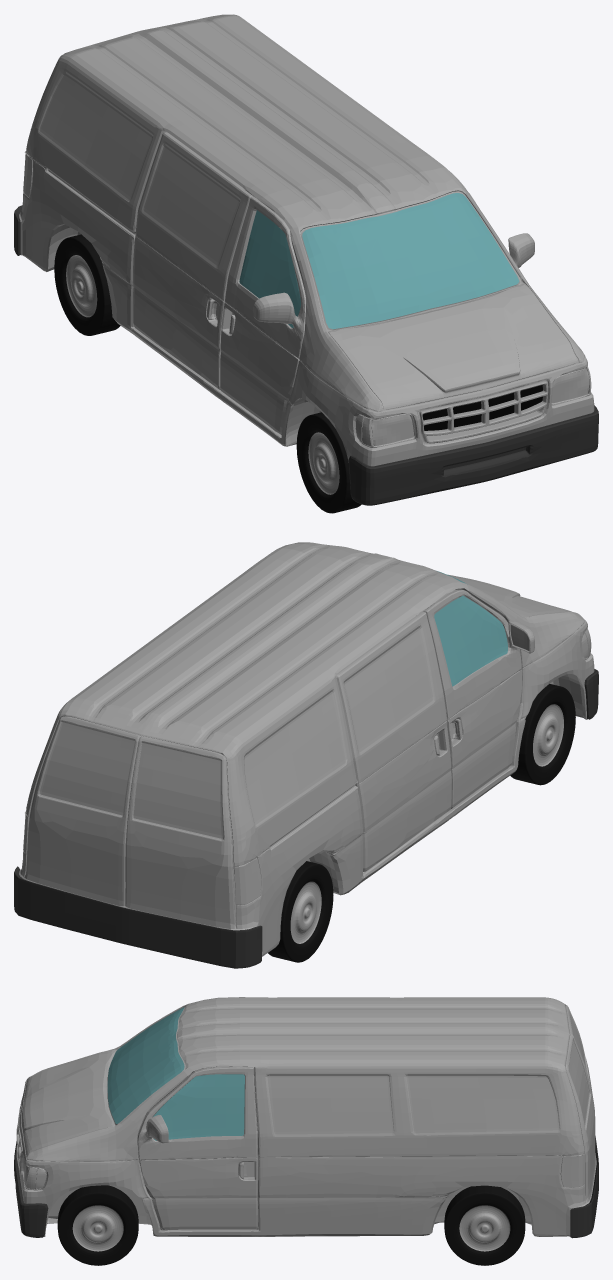
The model's file is camioneta_High.obj.
The picture shows the model from 3 angles, top to bottom: view 1: azimuth 30°, elevation 25°; view 2: azimuth 150°, elevation 25°; view 3: azimuth 270°, elevation 25°; orthographic projection. The views are drawn at different scales.
Parts seen in each view (by area): view 1: Camioneta.001_Circle.000, Camioneta.008_Circle.012, Camioneta.012_Circle.016, Camioneta.011_Circle.015, Camioneta.013_Circle.017, Camioneta.004_Circle.004, Camioneta.000_Circle.008, Camioneta.007_Circle.019, Camioneta.002_Circle.007, Camioneta.014_Circle.018; view 2: Camioneta.001_Circle.000, Camioneta.012_Circle.016, Camioneta.008_Circle.012, Camioneta.004_Circle.004, Camioneta.013_Circle.017, Camioneta.014_Circle.018, Camioneta.002_Circle.007, Camioneta.009_Circle.013; view 3: Camioneta.001_Circle.000, Camioneta.008_Circle.012, Camioneta.016_Circle.003, Camioneta.010_Circle.001, Camioneta.012_Circle.016, Camioneta.015_Circle.002, Camioneta.017_Circle.005, Camioneta.009_Circle.013.
Part boxes in pixels (x1=…): Camioneta.001_Circle.000: x1=19, y1=14, x2=594, y2=466; Camioneta.008_Circle.012: x1=239, y1=193, x2=519, y2=329; Camioneta.012_Circle.016: x1=14, y1=205, x2=598, y2=505; Camioneta.011_Circle.015: x1=419, y1=381, x2=547, y2=443; Camioneta.013_Circle.017: x1=54, y1=234, x2=120, y2=335; Camioneta.004_Circle.004: x1=296, y1=412, x2=361, y2=513; Camioneta.000_Circle.008: x1=371, y1=368, x2=589, y2=445; Camioneta.007_Circle.019: x1=422, y1=385, x2=542, y2=430; Camioneta.002_Circle.007: x1=308, y1=432, x2=339, y2=494; Camioneta.014_Circle.018: x1=66, y1=255, x2=97, y2=317; Camioneta.001_Circle.000: x1=19, y1=542, x2=594, y2=956; Camioneta.012_Circle.016: x1=14, y1=669, x2=598, y2=968; Camioneta.008_Circle.012: x1=434, y1=571, x2=507, y2=686; Camioneta.004_Circle.004: x1=510, y1=684, x2=575, y2=785; Camioneta.013_Circle.017: x1=268, y1=861, x2=333, y2=962; Camioneta.014_Circle.018: x1=290, y1=881, x2=321, y2=943; Camioneta.002_Circle.007: x1=533, y1=704, x2=563, y2=766; Camioneta.009_Circle.013: x1=23, y1=812, x2=260, y2=904; Camioneta.001_Circle.000: x1=19, y1=997, x2=596, y2=1236; Camioneta.008_Circle.012: x1=107, y1=1007, x2=244, y2=1140; Camioneta.016_Circle.003: x1=57, y1=1185, x2=138, y2=1265; Camioneta.010_Circle.001: x1=444, y1=1185, x2=525, y2=1265; Camioneta.012_Circle.016: x1=14, y1=1136, x2=598, y2=1238; Camioneta.015_Circle.002: x1=459, y1=1205, x2=510, y2=1251; Camioneta.017_Circle.005: x1=72, y1=1205, x2=123, y2=1251; Camioneta.009_Circle.013: x1=560, y1=1154, x2=584, y2=1187.
Size of the model in its own units: 4.35 by 3.68 by 9.97.
